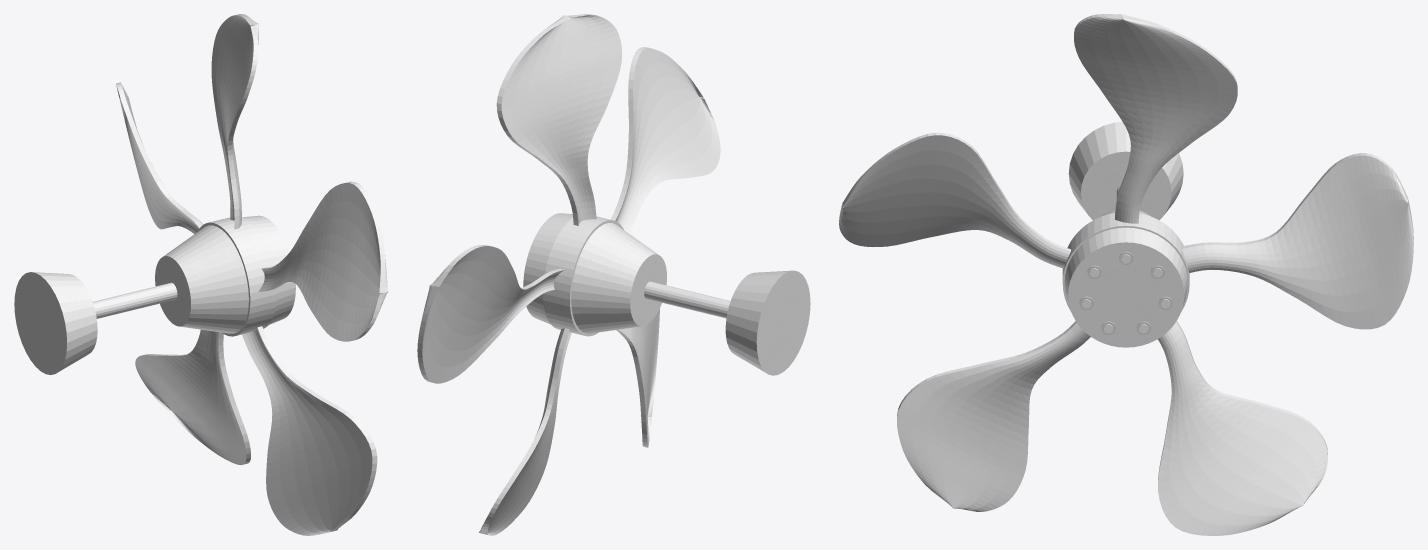
File: auraceilingfan.obj
3 views of the same model, side by side, from view 1: azimuth 30°, elevation 25°; view 2: azimuth 150°, elevation 25°; view 3: azimuth 270°, elevation 25° (orthographic). The views are drawn at different scales.
Parts seen in each view (by area): view 1: Rotor, Metal, Base; view 2: Rotor, Metal, Base; view 3: Rotor, Metal, Base, Trim.
Part boxes in pixels (x1=…): Rotor: x1=116, y1=14, x2=388, y2=535; Metal: x1=92, y1=215, x2=295, y2=333; Base: x1=14, y1=272, x2=97, y2=374; Rotor: x1=417, y1=14, x2=720, y2=535; Metal: x1=523, y1=213, x2=730, y2=333; Base: x1=725, y1=270, x2=810, y2=375; Rotor: x1=839, y1=14, x2=1413, y2=535; Metal: x1=1064, y1=186, x2=1187, y2=347; Base: x1=1068, y1=122, x2=1183, y2=220; Trim: x1=1079, y1=251, x2=1172, y2=335.
Bounding box in the file's own units: 0.4806 × 0.9302 × 0.9504.
